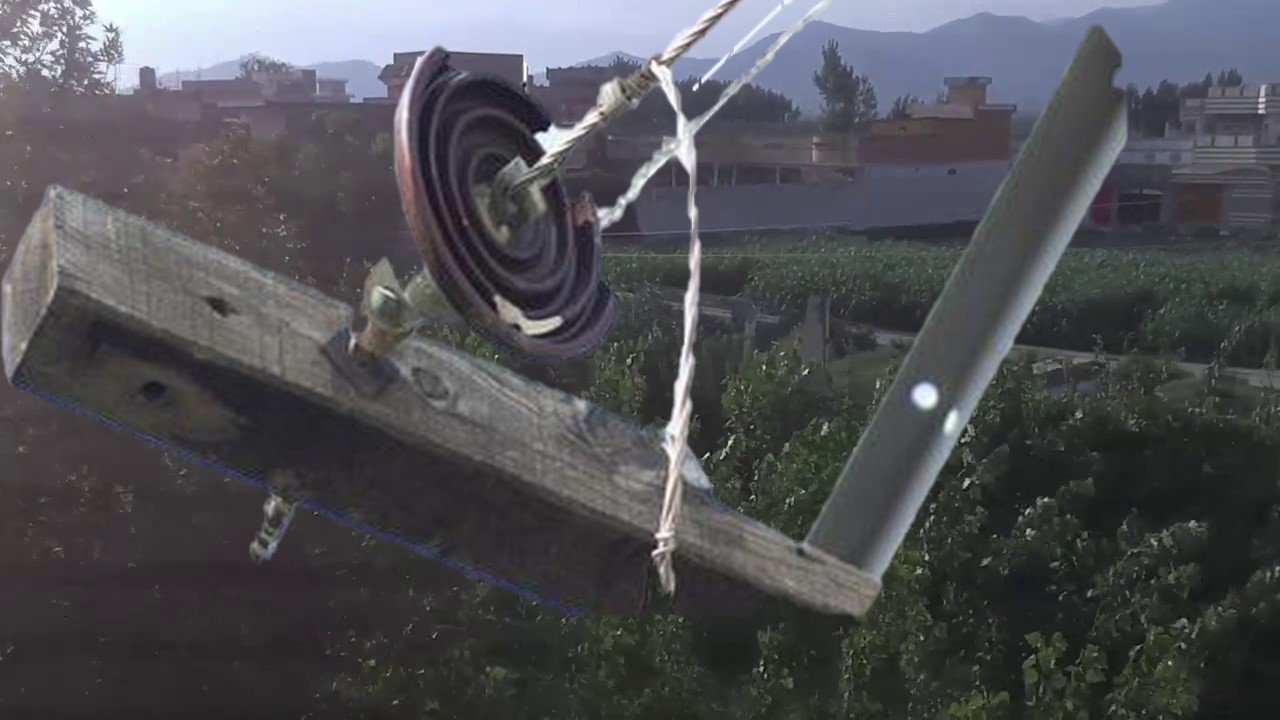defect_disc: (383, 34, 625, 373)
